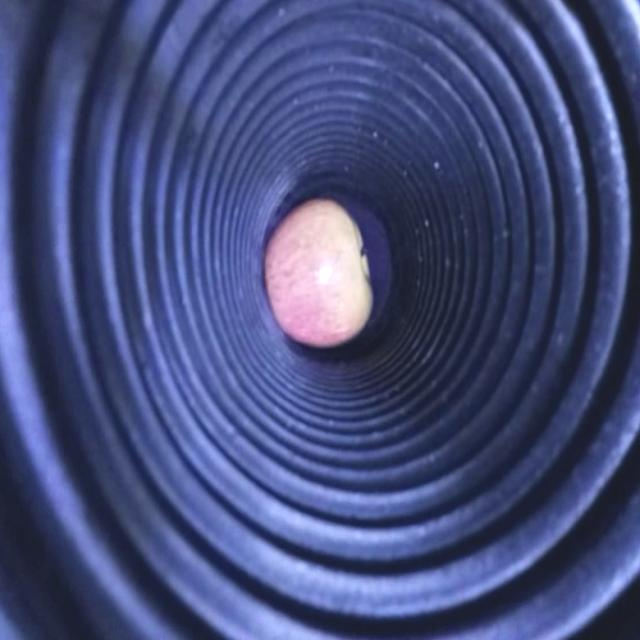obstacles: (264, 207, 372, 348)
